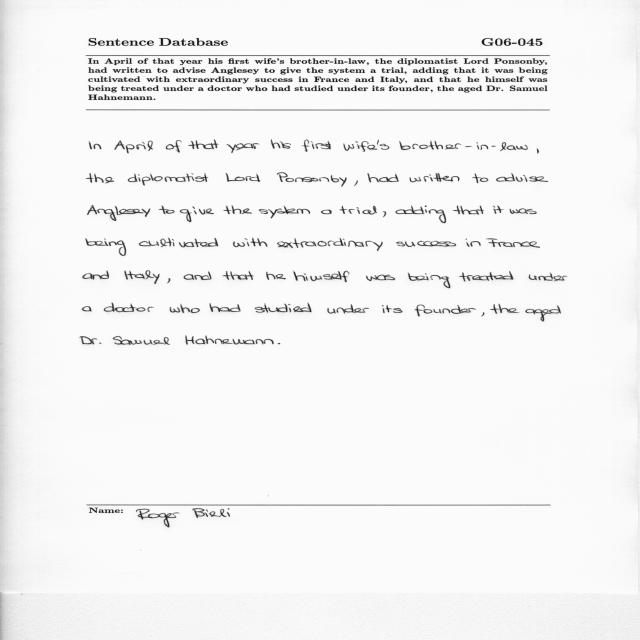word: (277, 238, 383, 251), (412, 141, 528, 151), (88, 205, 150, 221), (277, 173, 347, 187), (128, 173, 208, 185), (395, 205, 446, 223), (343, 140, 411, 152), (185, 336, 274, 345), (415, 305, 476, 317), (139, 238, 218, 247), (86, 239, 127, 256), (259, 206, 310, 219), (408, 273, 451, 288), (294, 271, 350, 282), (459, 271, 514, 282), (525, 306, 561, 322), (255, 303, 312, 313), (180, 207, 214, 223), (486, 238, 540, 248), (113, 336, 170, 345), (115, 141, 154, 154), (124, 270, 160, 284), (496, 173, 548, 182), (410, 173, 460, 182), (104, 303, 154, 312), (327, 304, 369, 314), (302, 140, 332, 152), (396, 241, 456, 247), (529, 273, 567, 282), (227, 143, 260, 153), (226, 173, 260, 182), (233, 238, 267, 247), (339, 206, 377, 214), (490, 304, 519, 314), (367, 173, 399, 182), (86, 173, 114, 183), (188, 140, 219, 149), (453, 206, 484, 215), (223, 271, 254, 280), (210, 303, 241, 312), (170, 304, 200, 313), (223, 205, 252, 214), (184, 271, 212, 280), (83, 271, 109, 280), (166, 140, 181, 153), (271, 140, 291, 149), (266, 271, 286, 280), (366, 275, 395, 281), (80, 336, 101, 344), (510, 208, 537, 214), (472, 173, 488, 183), (382, 305, 402, 313), (466, 238, 481, 247), (159, 206, 175, 214), (89, 141, 102, 149), (493, 206, 504, 214), (82, 306, 92, 312), (321, 210, 332, 214), (354, 181, 358, 186), (383, 212, 386, 218), (481, 313, 485, 317), (167, 279, 170, 284), (537, 149, 539, 154), (278, 343, 281, 344)
